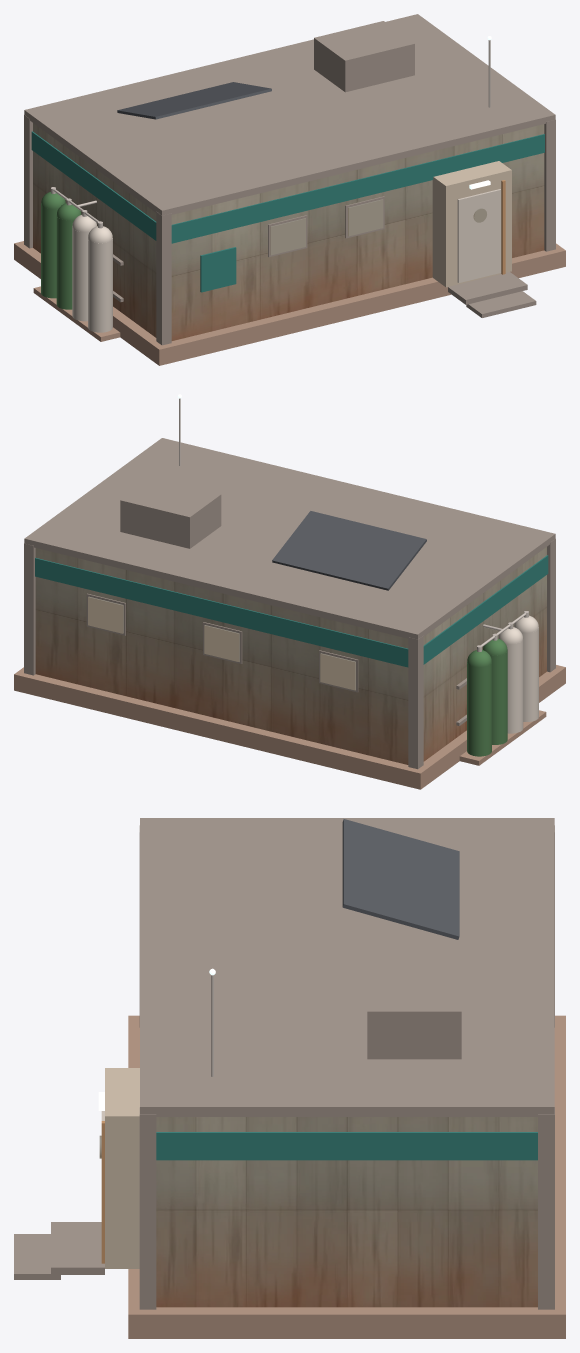
The model's file is Z03_medical_station.glb.
The picture shows the model from 3 angles, top to bottom: view 1: azimuth 30°, elevation 25°; view 2: azimuth 150°, elevation 25°; view 3: azimuth 270°, elevation 25°; orthographic projection. The views are drawn at different scales.
Visible parts, largest first — view 1: roof_edge, module, foundation, door_window, tank_valve; view 2: roof_edge, module, foundation, door_window; view 3: roof_edge, module, foundation.
Part boxes in pixels (box(x1,y1,x2,y2)): roof_edge: box(24, 14, 555, 345); module: box(31, 123, 544, 340); foundation: box(14, 241, 565, 365); door_window: box(270, 199, 486, 255); tank_valve: box(51, 40, 490, 228); roof_edge: box(24, 438, 555, 769); module: box(35, 547, 548, 764); foundation: box(14, 665, 565, 789); door_window: box(88, 596, 355, 690); roof_edge: box(14, 818, 554, 1309); module: box(101, 1068, 537, 1307); foundation: box(128, 1015, 565, 1338).
Size of the model in its own units: 11.03 by 5.48 by 8.2.
Materials: 7 (1 with a texture image).
